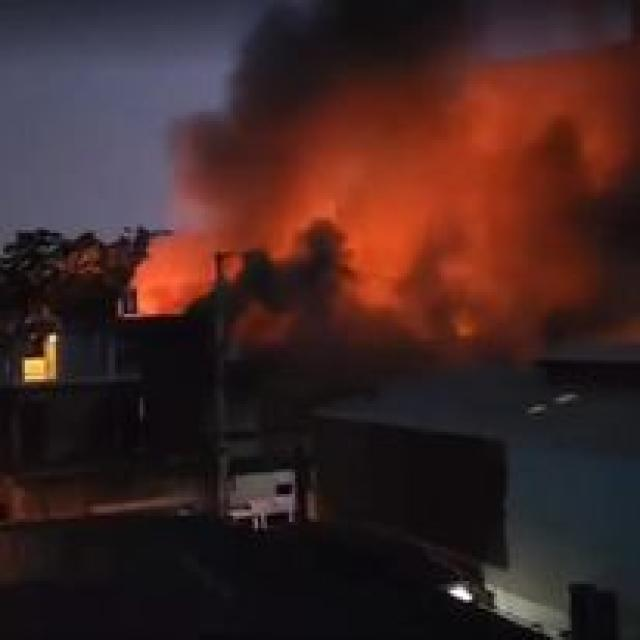Smoke: (234, 13, 640, 336)
